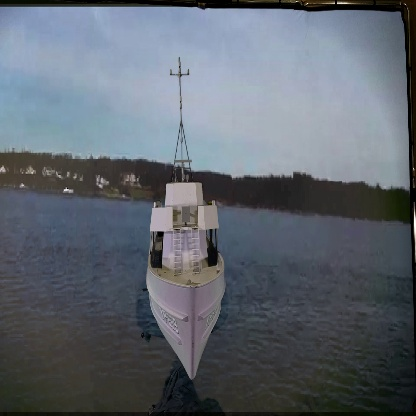YP689: (145, 56, 228, 383)
